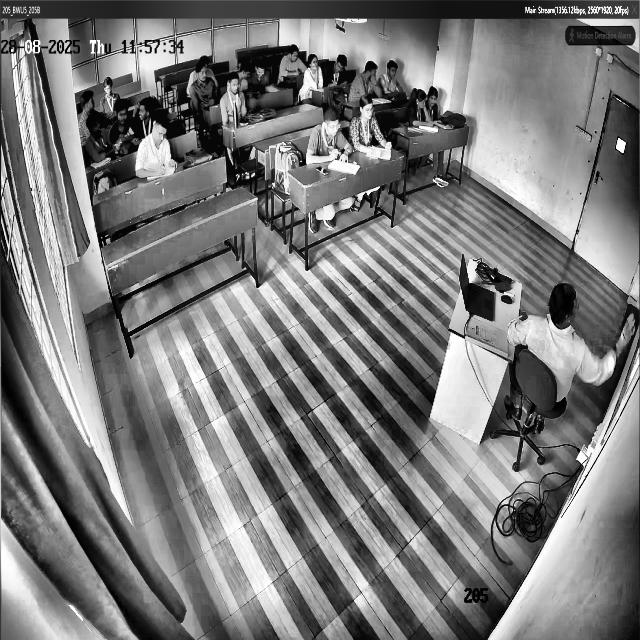Focus: (546, 279, 580, 340), (321, 102, 343, 144), (354, 94, 377, 125), (331, 49, 348, 82), (363, 58, 379, 90), (151, 118, 169, 146), (428, 83, 443, 113), (307, 53, 322, 78), (227, 73, 242, 98), (414, 84, 426, 113), (289, 42, 300, 71), (386, 59, 399, 82)
Not Focus: (86, 111, 105, 139), (77, 88, 96, 116), (116, 102, 130, 137), (194, 62, 209, 88), (254, 60, 270, 84), (102, 77, 116, 104), (136, 96, 148, 127)
